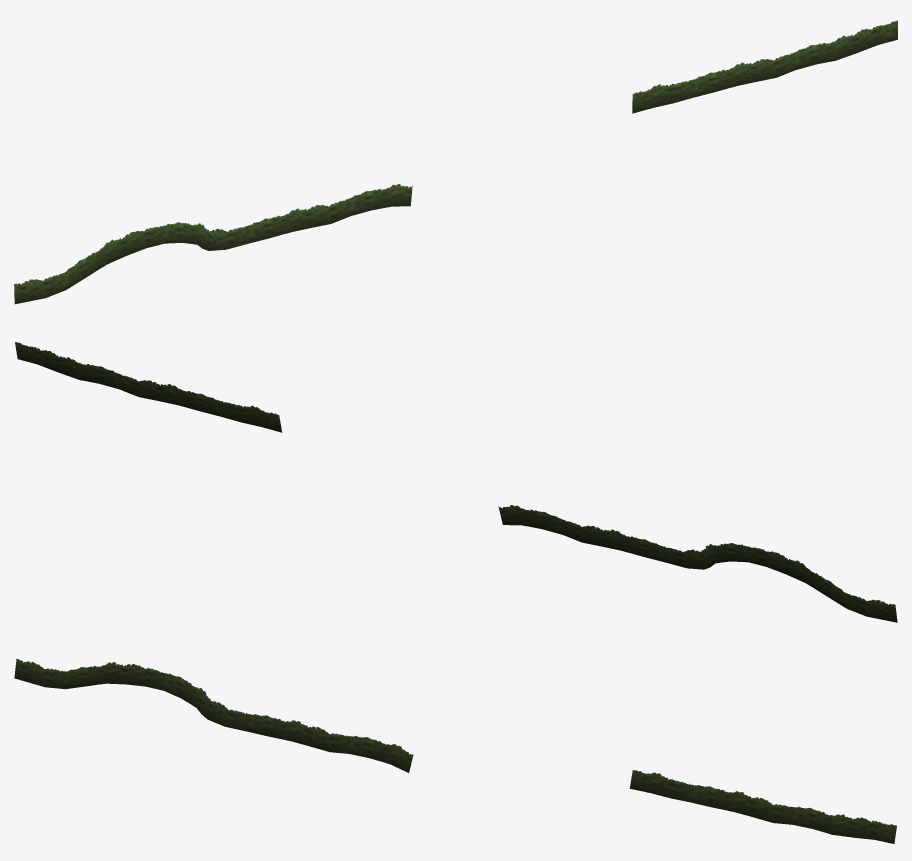
Rendered from Castle Tower_Grass FG.FBX.
3 views of the same model, one above another, from view 1: azimuth 30°, elevation 25°; view 2: azimuth 150°, elevation 25°; view 3: azimuth 330°, elevation 25° (orthographic).
Visible parts, largest first — view 1: Grass Landscape FG; view 2: Grass Landscape FG; view 3: Grass Landscape FG.
Part boxes in pixels (x1=…): Grass Landscape FG: x1=14, y1=20, x2=897, y2=304; Grass Landscape FG: x1=15, y1=342, x2=897, y2=622; Grass Landscape FG: x1=14, y1=659, x2=896, y2=843.
Size of the model in its own units: 16908 by 62.99 by 1408.
